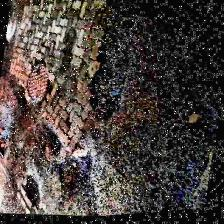pothole: (83, 9, 136, 125), (59, 143, 93, 191), (20, 172, 48, 210), (0, 122, 12, 156)
